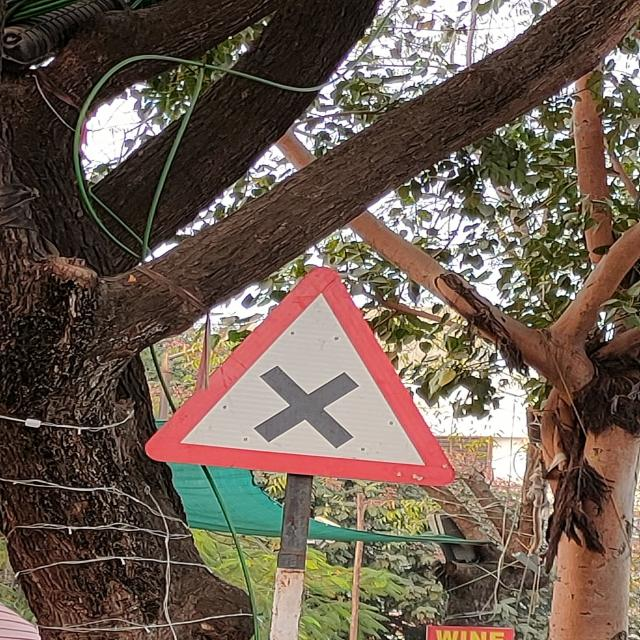cross_road: (147, 268, 455, 488)
